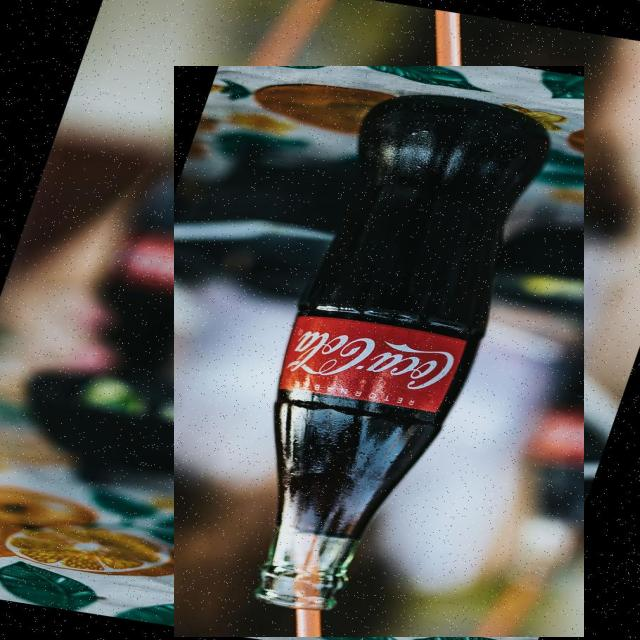coca-cola: (174, 66, 584, 637)
